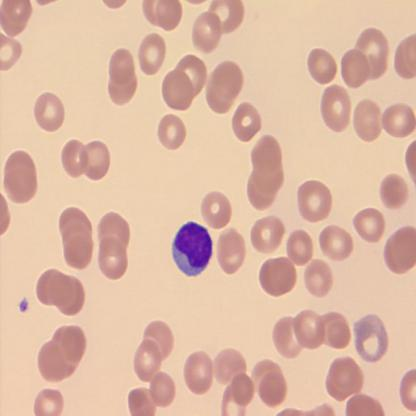Lymphocyte: (171, 221, 213, 277)
